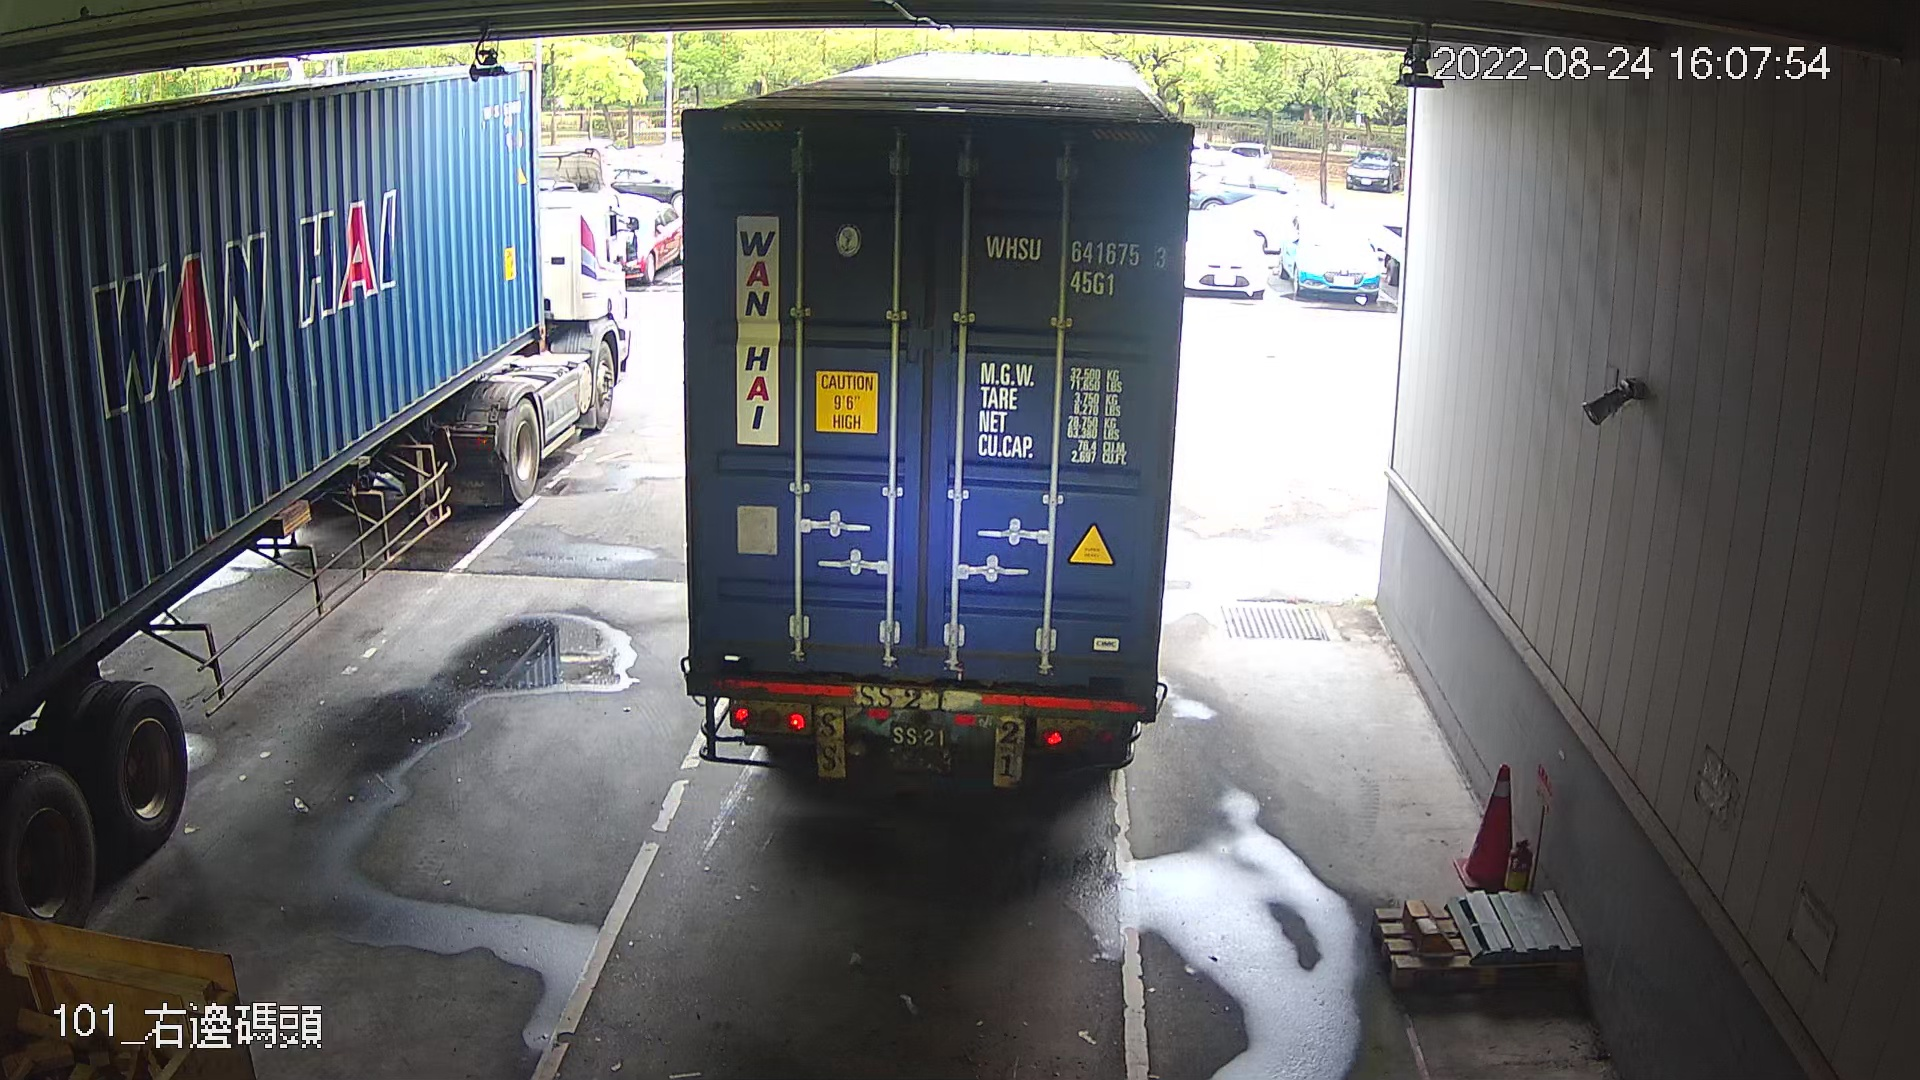container: (978, 223, 1175, 307)
